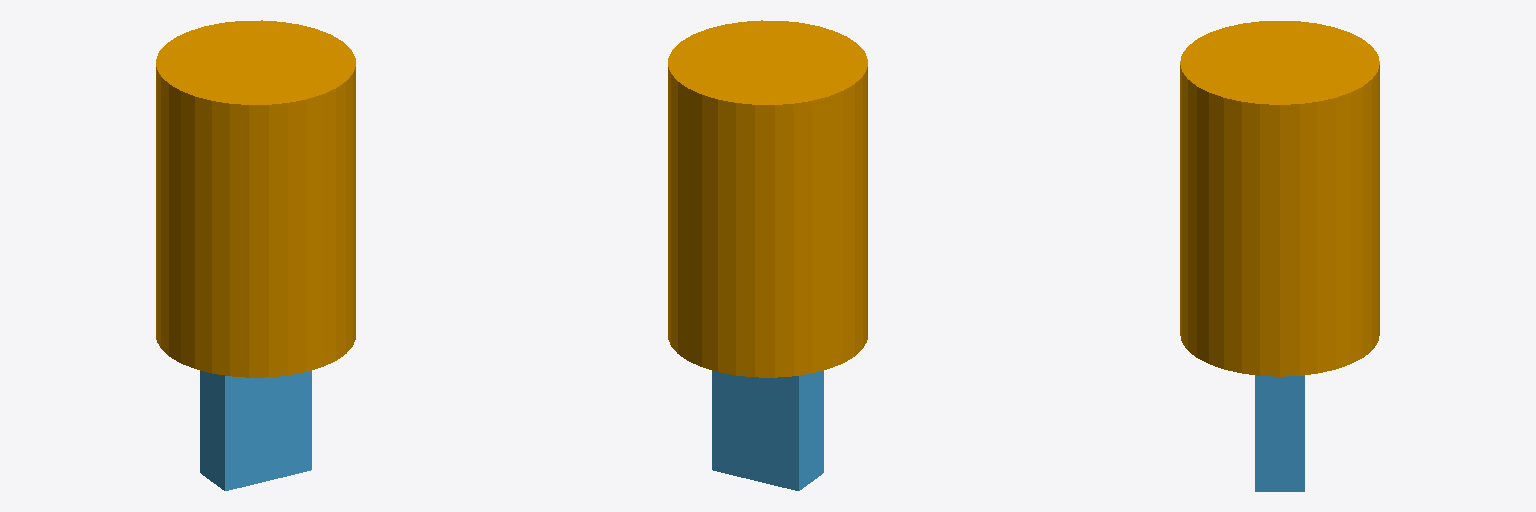
URDF robot description (tapak_kaki):
<?xml version="1.0"?>
<robot name="tapak_kaki">
	<link name="tapak">
		<visual>
			<geometry>
				<cylinder length="0.6" radius="0.2"/>
			</geometry>
		</visual>
	</link>

	<link name="kaki_kanan">
		<visual>
				<geometry>
						<box size="0.6 0.1 0.2"/>
				</geometry>
				<!--setting rpy=(0,pi/2,0)    		  -->
				<origin rpy="0 1.5707 0" xyz="0 0 -0.3"/>
		</visual>
	</link>

	<joint name="tapak_ke_kaki_kanak" type="fixed">
			<parent link="tapak"/>
			<child link="kaki_kanan"/>
	</joint>
</robot>

--- Render facts (derived) ---
The picture shows the robot from 3 angles, left to right: view 1: azimuth 30°, elevation 25°; view 2: azimuth 150°, elevation 25°; view 3: azimuth 270°, elevation 25°; orthographic projection.
Model tapak_kaki with 2 links and 1 joints (1 fixed), rooted at tapak, posed all joints at 0.
Links seen in each view (by area): view 1: tapak, kaki_kanan; view 2: tapak, kaki_kanan; view 3: tapak, kaki_kanan.
Boxes of the visible links, x1,y1,x2,y2 form: tapak: [156, 20, 355, 377]; kaki_kanan: [200, 371, 311, 490]; tapak: [668, 20, 867, 377]; kaki_kanan: [712, 371, 823, 490]; tapak: [1180, 21, 1379, 376]; kaki_kanan: [1255, 375, 1304, 491].
Size in the robot's own frame: 0.4 by 0.4 by 0.9 metres.
Geometry: primitives only (box / cylinder / sphere), no mesh files.